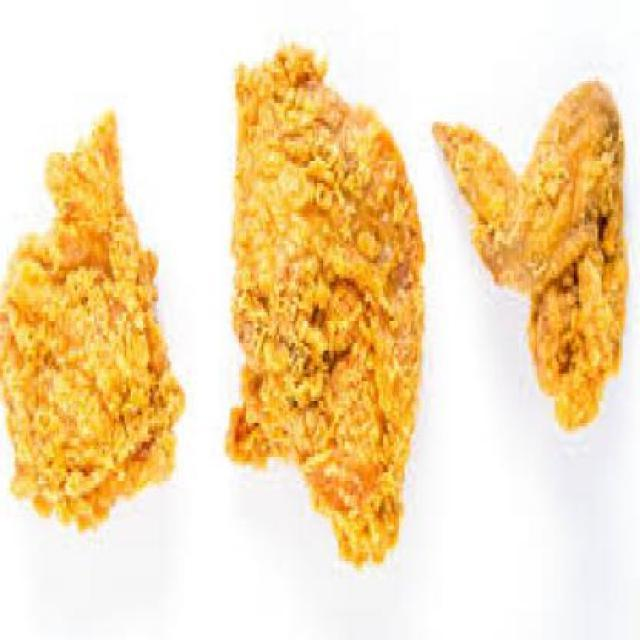Chicken -Fried Chicken-: (225, 43, 427, 570), (0, 114, 186, 535), (435, 80, 630, 436)
